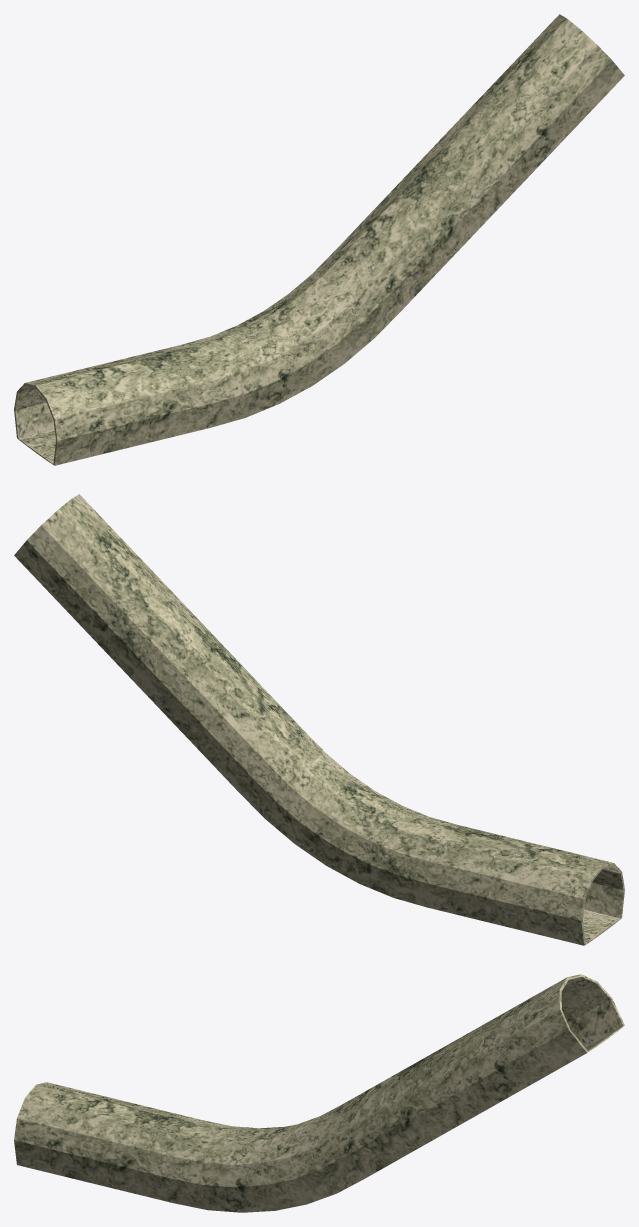
File: tunnel.obj
3 views of the same model, one above another, from view 1: azimuth 30°, elevation 25°; view 2: azimuth 150°, elevation 25°; view 3: azimuth 330°, elevation 25° (orthographic).
Visible parts, largest first — view 1: pPipe1; view 2: pPipe1; view 3: pPipe1.
Boxes of the visible parts, x1,y1,x2,y2 form: pPipe1: [14, 14, 624, 465]; pPipe1: [14, 494, 624, 945]; pPipe1: [14, 974, 624, 1212].
Size of the model in its own units: 22.71 by 11.57 by 3.
1 material, 1 textured.
